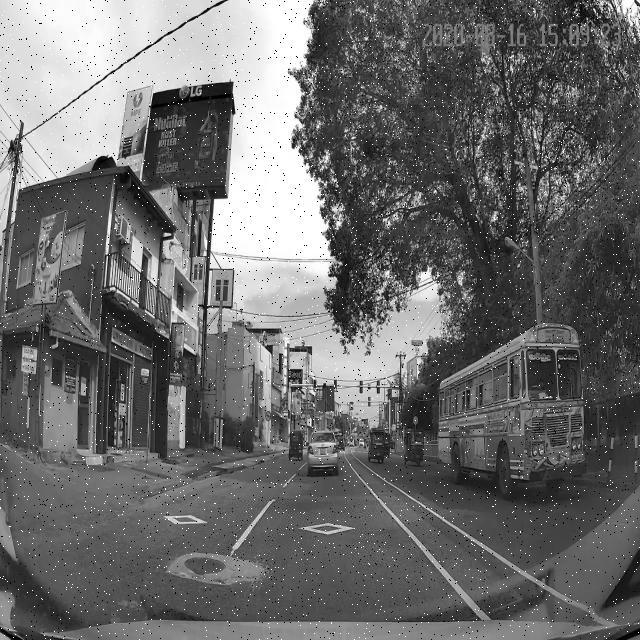diamond: (218, 502, 442, 564)
